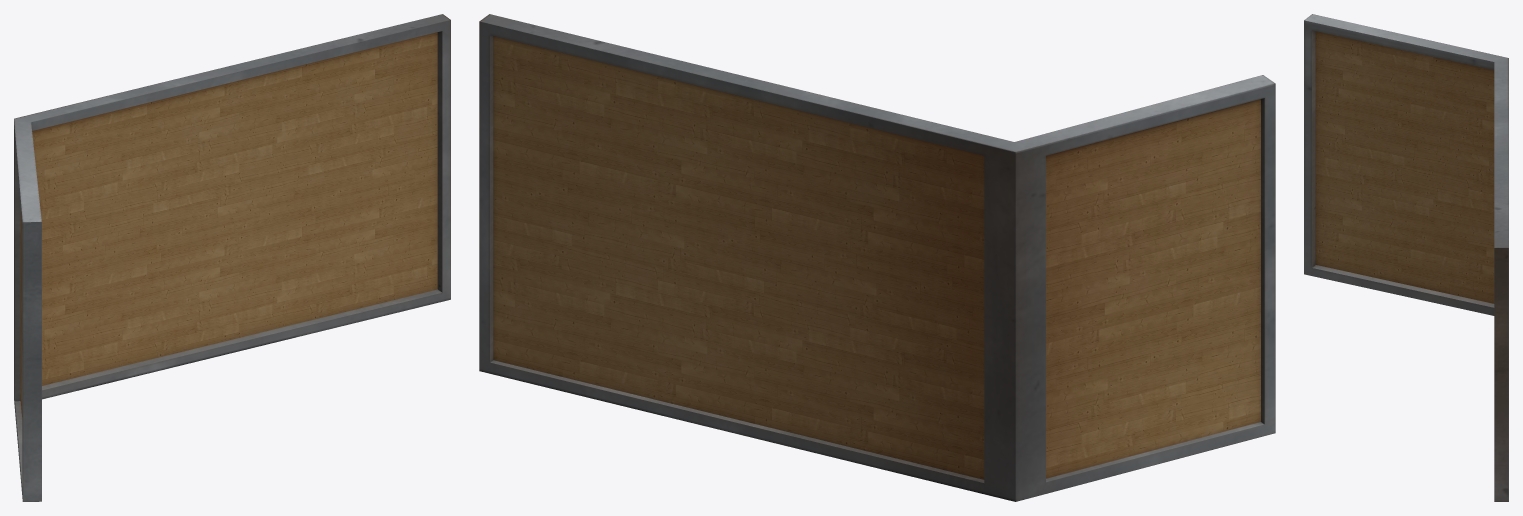
File: wall-angled-baked.glb
3 renders of one model, left to right at view 1: azimuth 30°, elevation 25°; view 2: azimuth 150°, elevation 25°; view 3: azimuth 270°, elevation 25°, orthographic. The views are drawn at different scales.
Parts seen in each view (by area): view 1: angled-wall_Baked; view 2: angled-wall_Baked; view 3: angled-wall_Baked.
Part boxes in pixels (bbox=[...]): angled-wall_Baked: bbox=[14, 14, 450, 501]; angled-wall_Baked: bbox=[479, 14, 1275, 501]; angled-wall_Baked: bbox=[1304, 14, 1508, 501].
Size of the model in its own units: 6.75 by 3.42 by 2.5.
1 material, 1 textured.
